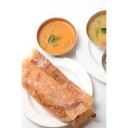dosa: (19, 49, 96, 125)
